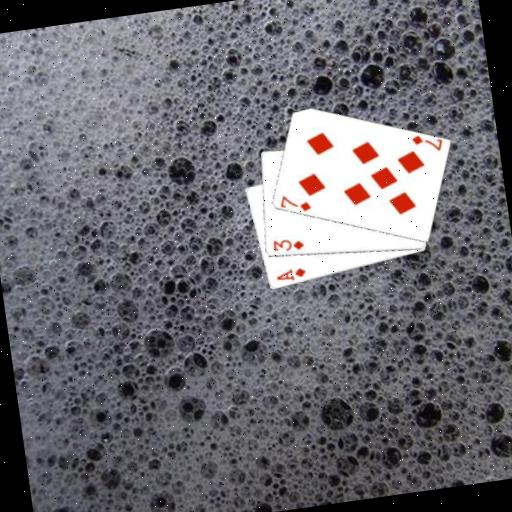3D: (268, 234, 306, 256)
7D: (276, 189, 313, 217), (408, 130, 445, 157)
AD: (273, 265, 309, 285)
